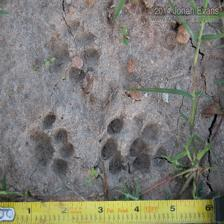cat: (21, 110, 81, 179)
